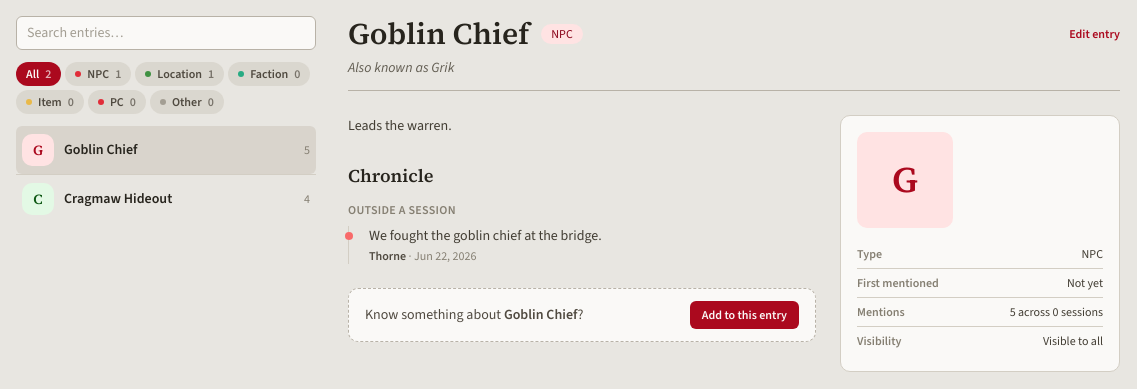
EntityDetailPage (#248) › pane rail (#842) › swaps only the pane on row navigation, fetching the new entity's data
Click the link "C Cragmaw Hideout 4" at (166, 199), box x1=16 y1=175 x2=316 y2=223
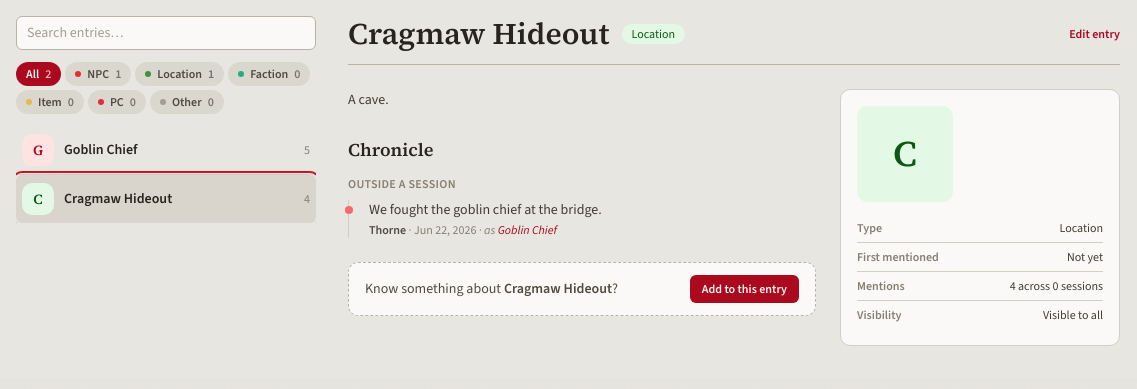
Expected: the heading "Cragmaw Hideout" is shown, x1=348 y1=16 x2=610 y2=52
